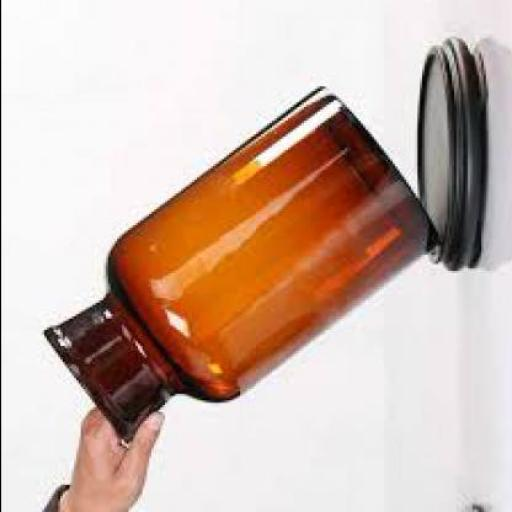glass: (38, 88, 432, 446)
plastic: (413, 38, 485, 272)
